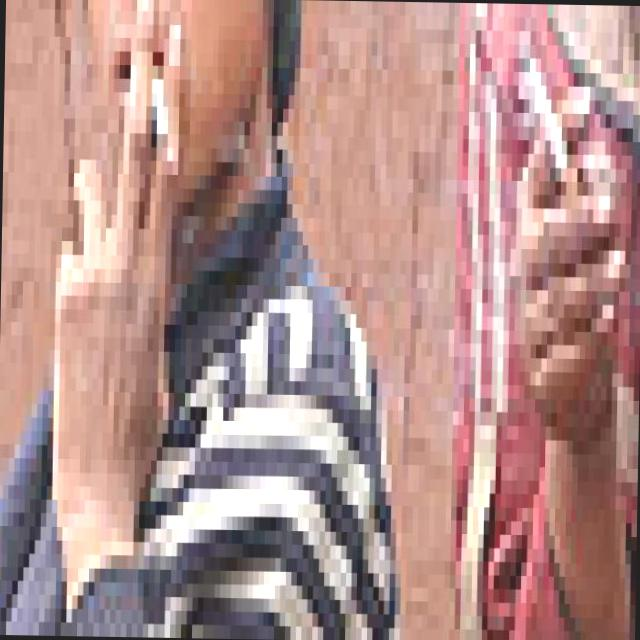cigarette: (517, 3, 580, 182), (150, 38, 185, 175)
